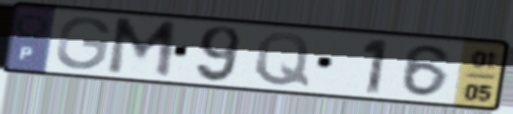1: (359, 37, 392, 97)
6: (401, 42, 456, 99)
9: (191, 24, 248, 84)
G: (53, 14, 114, 72)
M: (103, 15, 181, 82)
Q: (252, 30, 313, 89)
